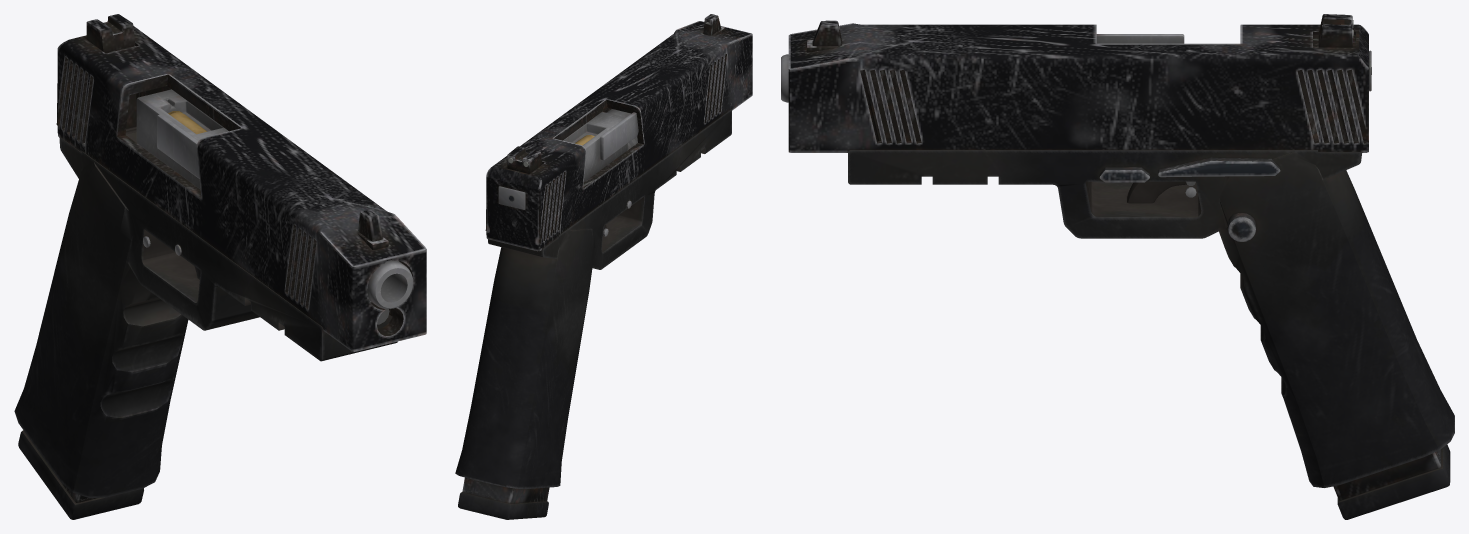
File: pistol.glb
The picture shows the model from 3 angles, left to right: view 1: azimuth 30°, elevation 25°; view 2: azimuth 150°, elevation 25°; view 3: azimuth 270°, elevation 25°; orthographic projection. The views are drawn at different scales.
Visible parts, largest first — view 1: body, slide, mag; view 2: body, slide, mag; view 3: slide, body, mag, trigger.
Part boxes in pixels (<box>): body: <box>14,89,413,498</box>; slide: <box>56,14,426,351</box>; mag: <box>18,430,143,519</box>; body: <box>455,109,731,488</box>; slide: <box>485,14,752,251</box>; mag: <box>458,477,549,519</box>; slide: <box>788,14,1371,152</box>; body: <box>781,54,1454,487</box>; mag: <box>1333,444,1450,519</box>; trigger: <box>1127,181,1195,203</box>.
Bounding box in the file's own units: 0.0338 × 0.1616 × 0.2043.
Materials: 5 (5 with a texture image).
